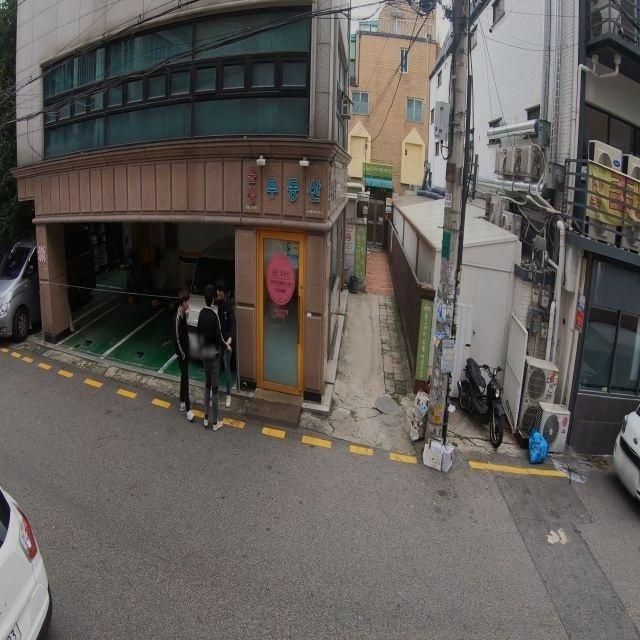fight: (187, 283, 236, 431)
non-fight: (172, 293, 196, 416)
